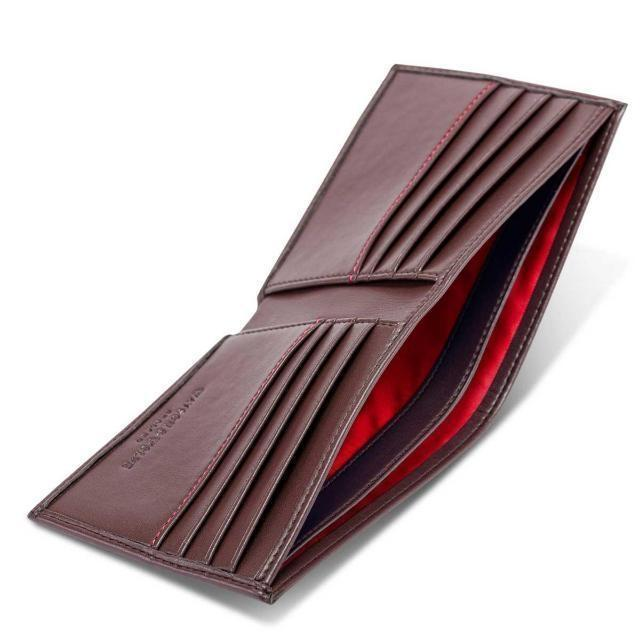Wallet: (30, 66, 624, 602)
